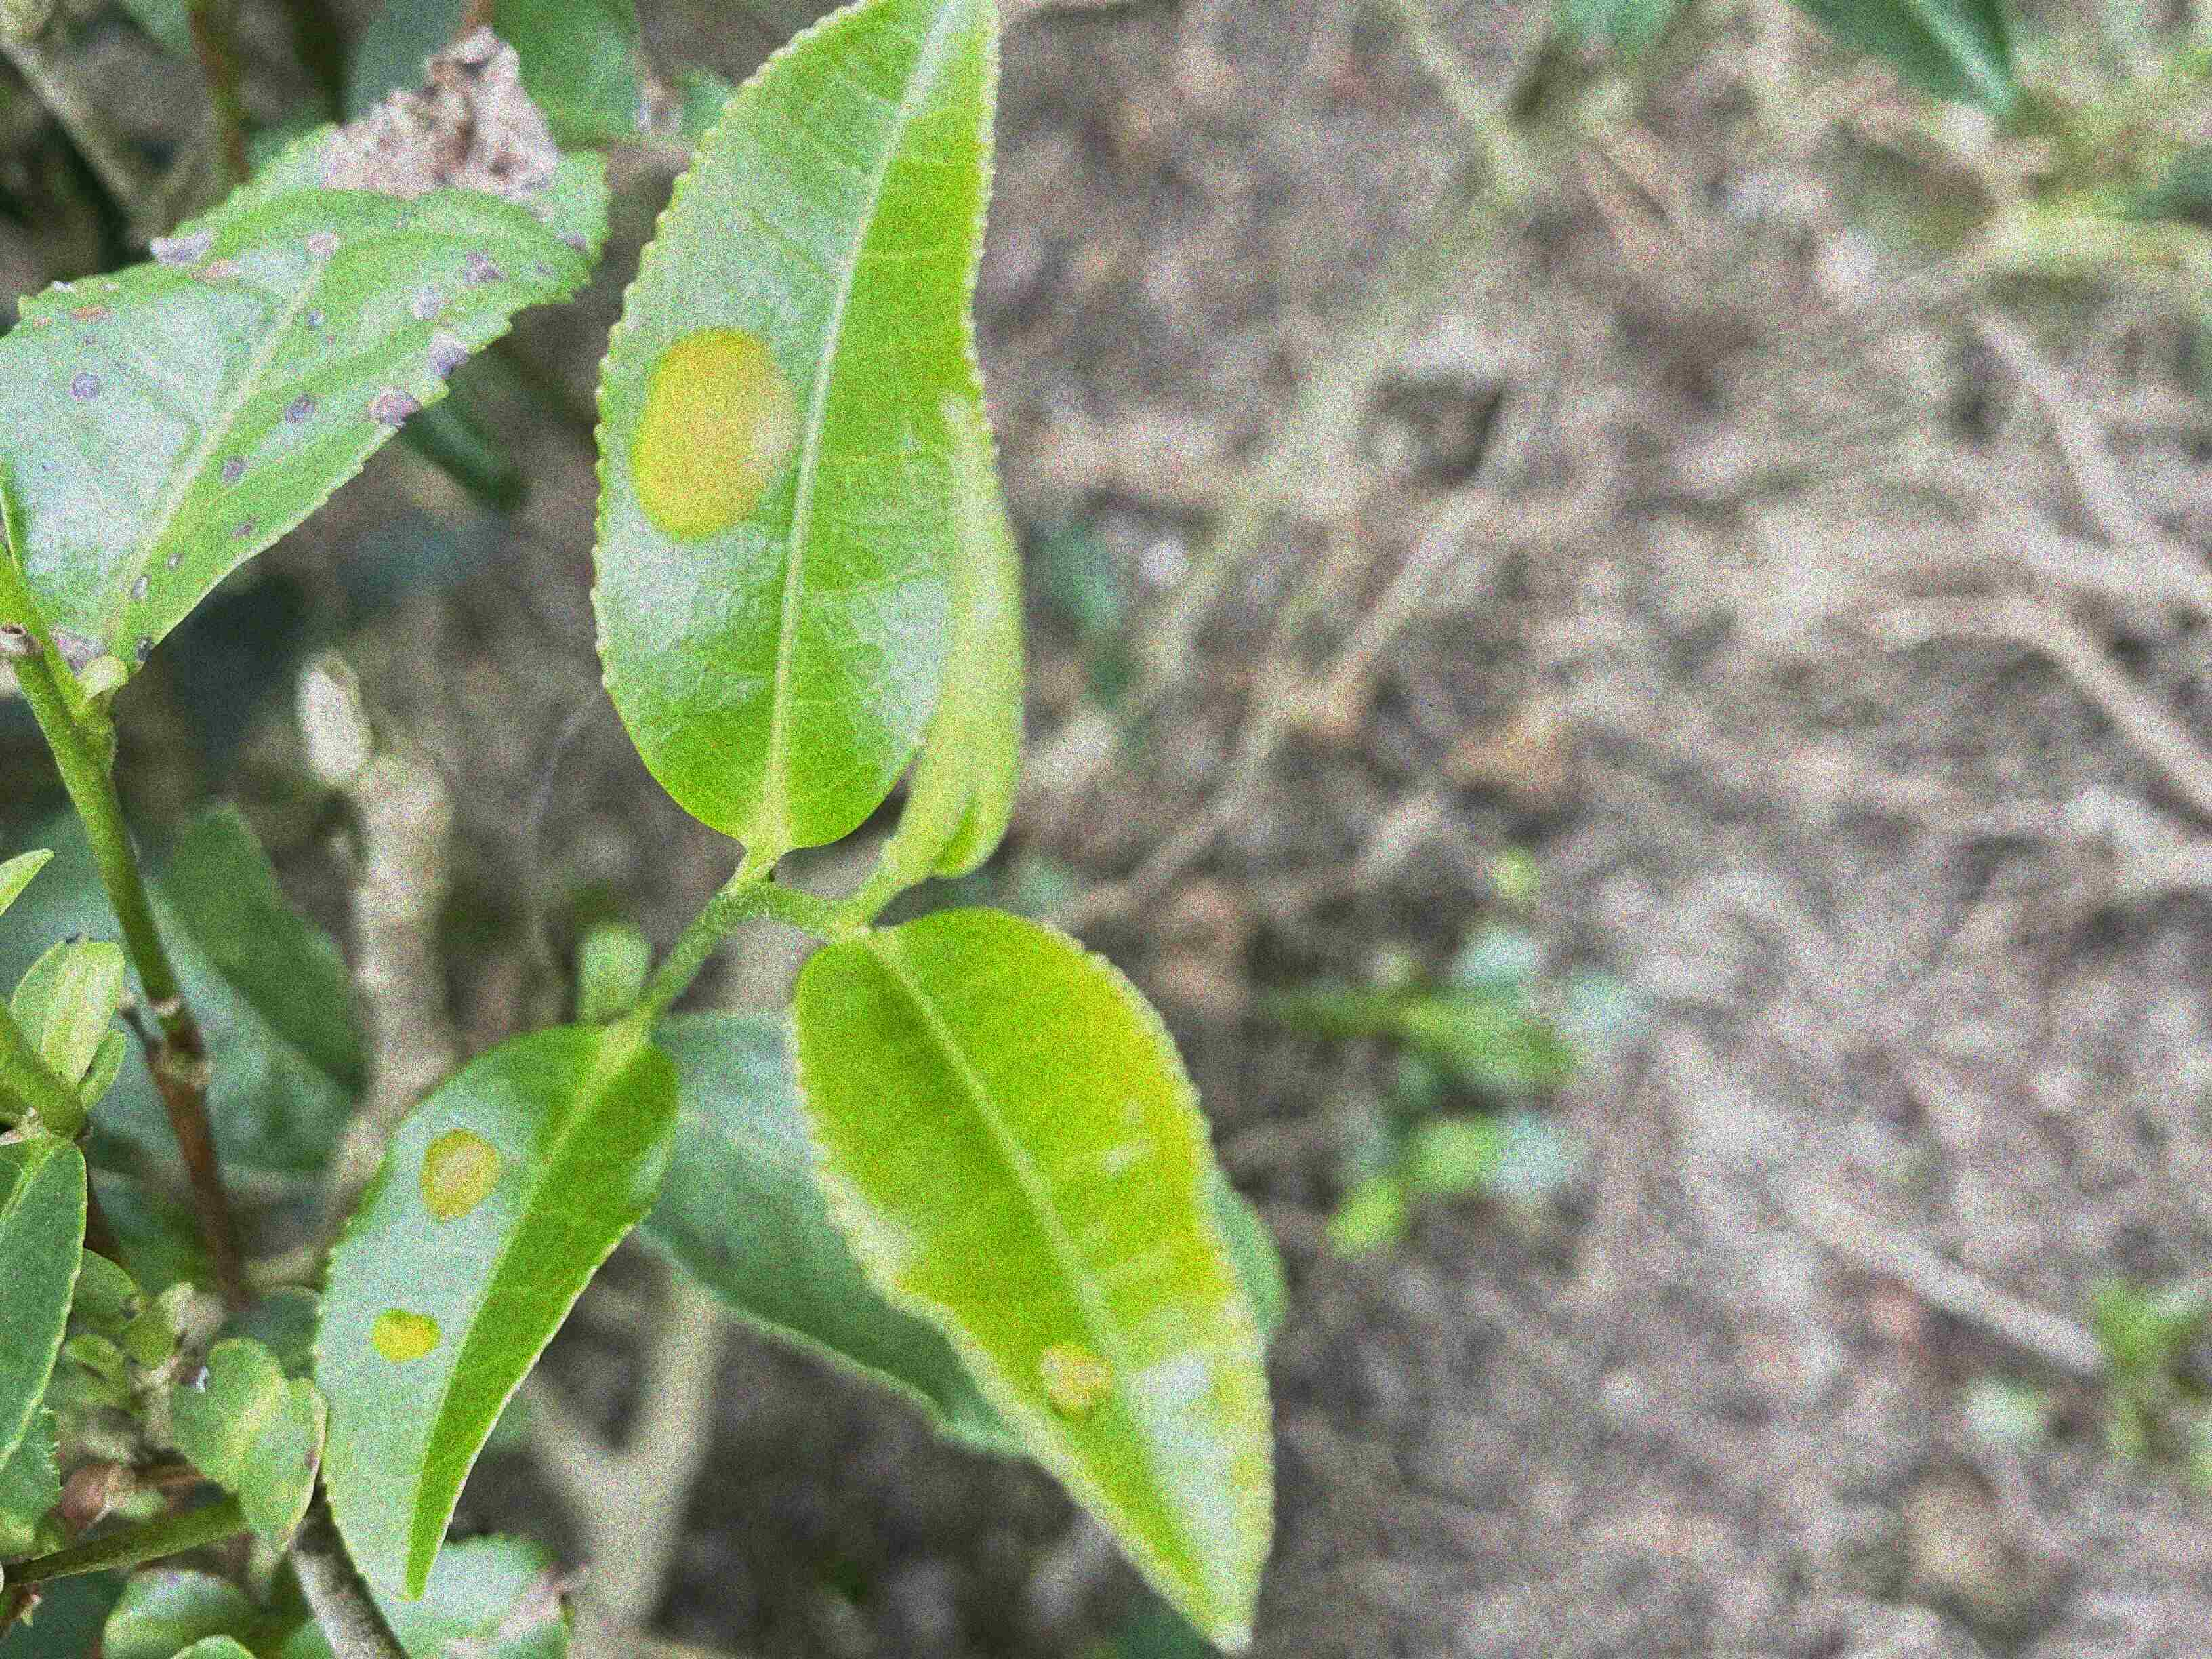chabing_high: (312, 1018, 681, 1603)
chabing_low: (782, 901, 1280, 1652), (587, 3, 1008, 852)
tanju_high: (5, 28, 611, 690)
